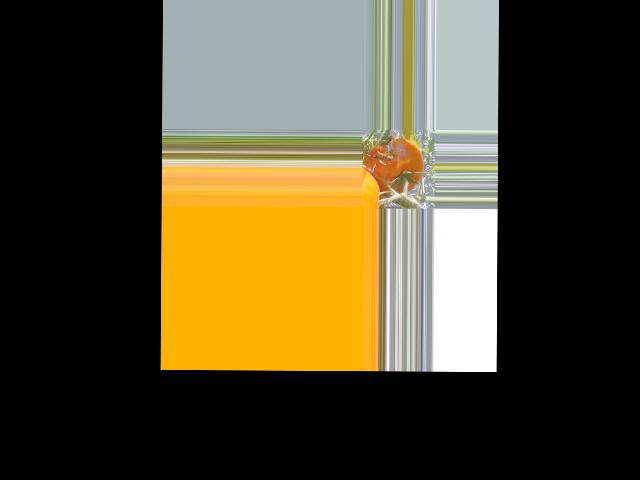tomato: (363, 136, 423, 193)
